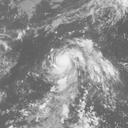cyclone: (45, 45, 85, 86)
